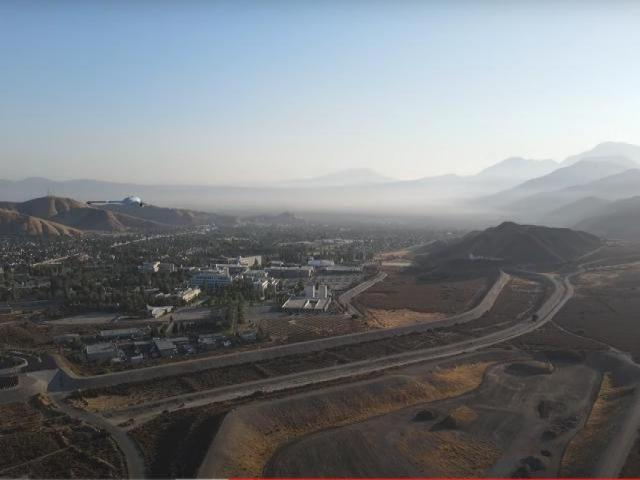iha: (82, 191, 151, 214)
